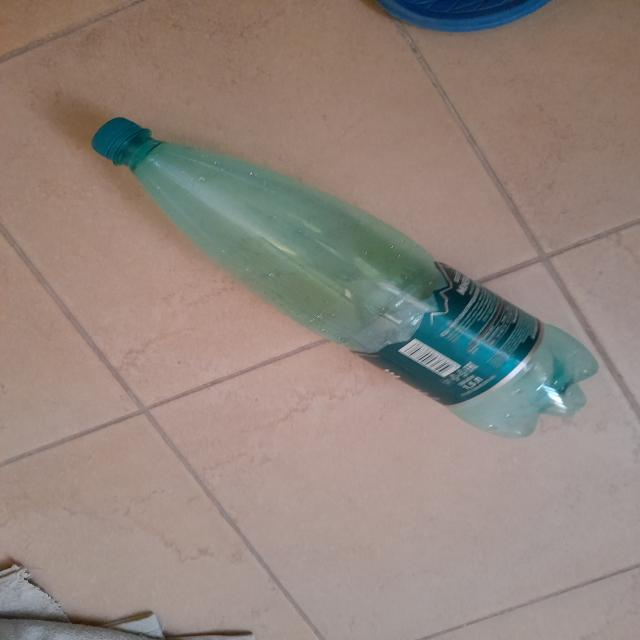empty: (92, 118, 597, 437)
